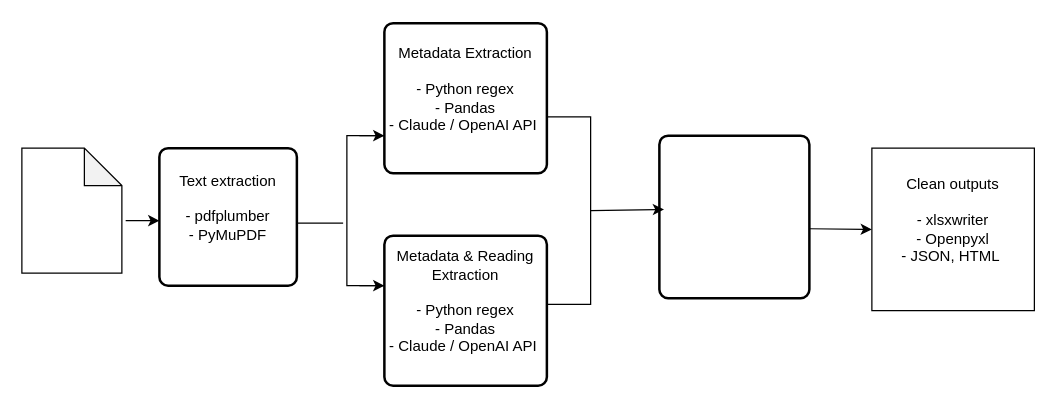
Image size: 1056x408. Some labels were removed from this diagram. Each missing label, with the box of its shape:
Cleaning & Enrichment - Python regex - Pandas - Claude / OpenAI API: (658, 134, 810, 299)
Syllabus PDFs: (21, 147, 122, 273)
